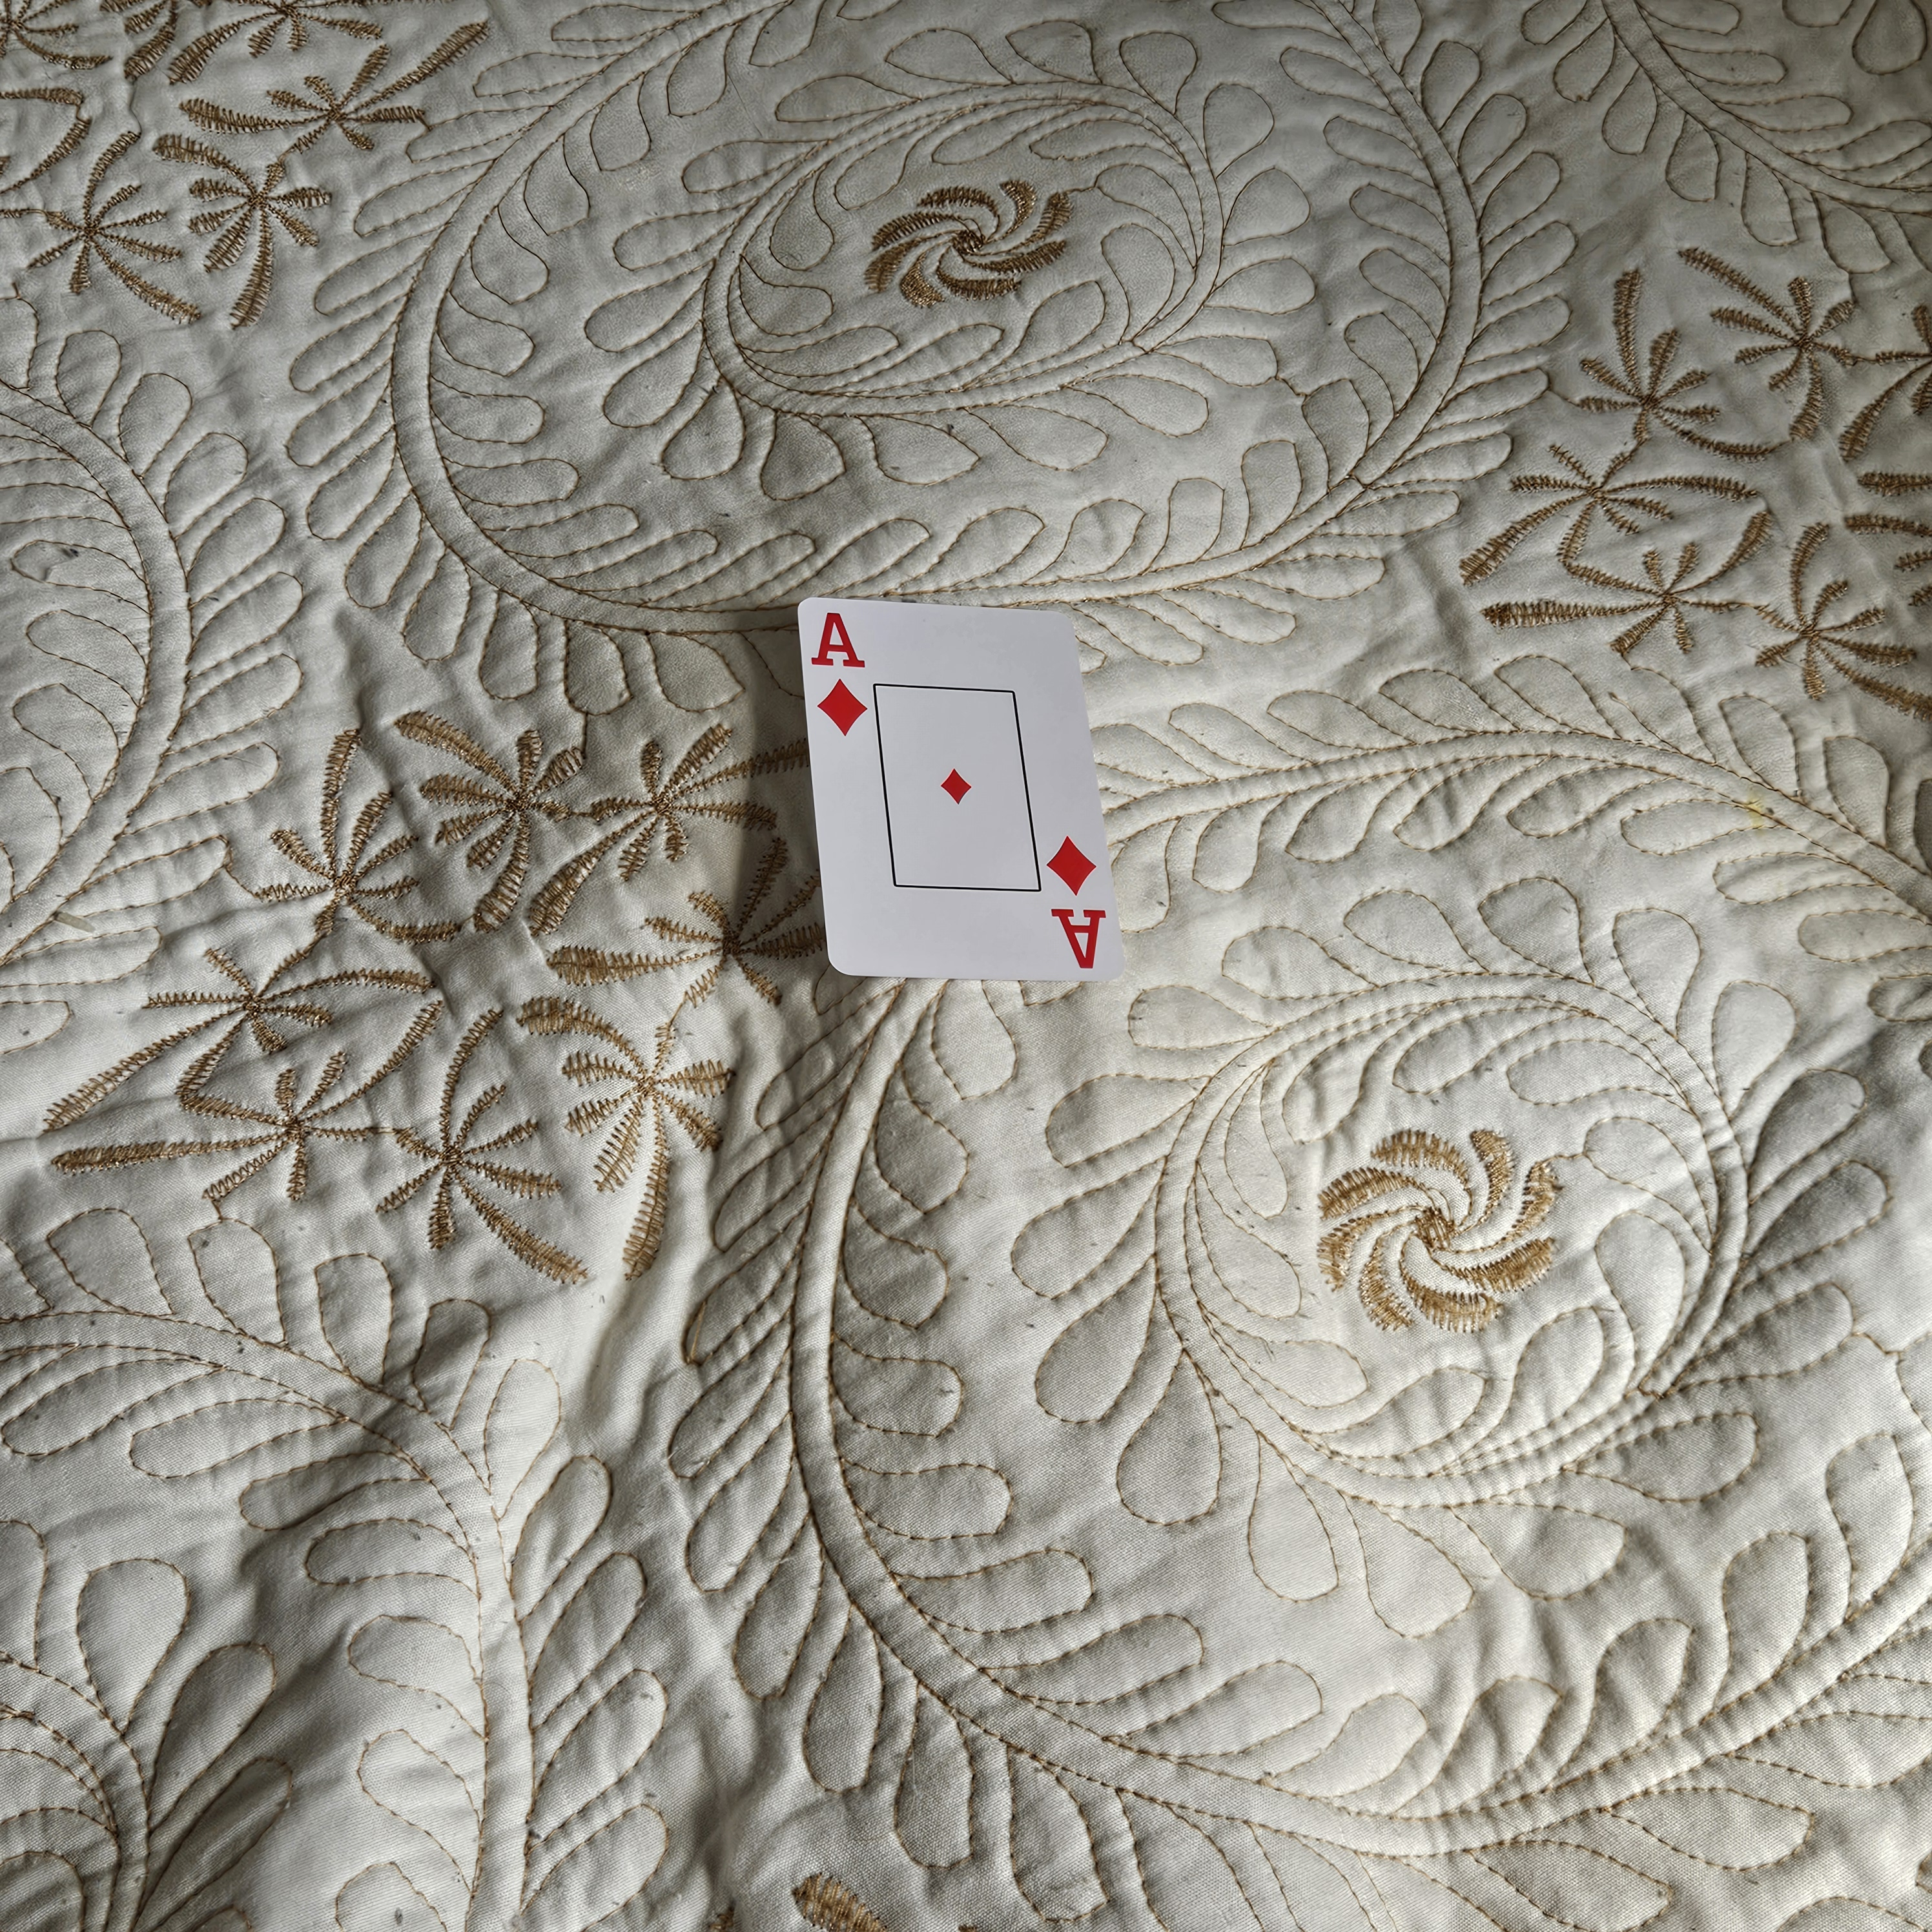AO: (798, 600, 879, 747), (1035, 833, 1109, 982)
